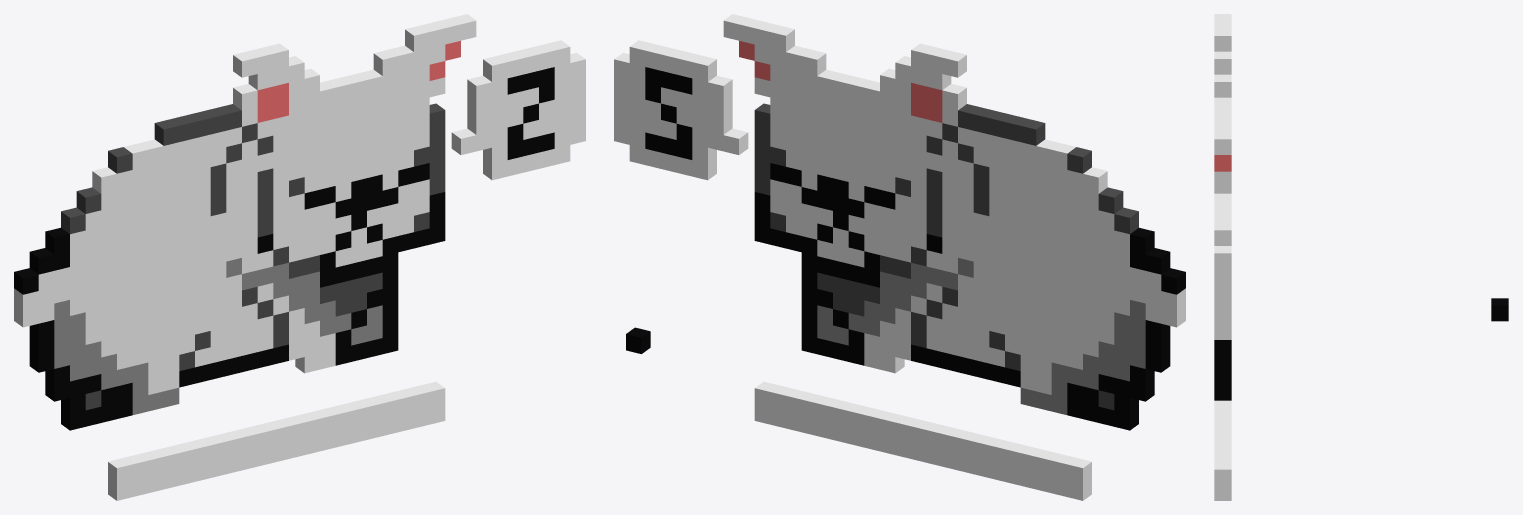
Rendered from pig9_2.obj.
3 views of the same model, side by side, from view 1: azimuth 30°, elevation 25°; view 2: azimuth 150°, elevation 25°; view 3: azimuth 270°, elevation 25° (orthographic). The views are drawn at different scales.
Size of the model in its own units: 3.6 by 2.5 by 1.7.
1 material, 1 textured.
